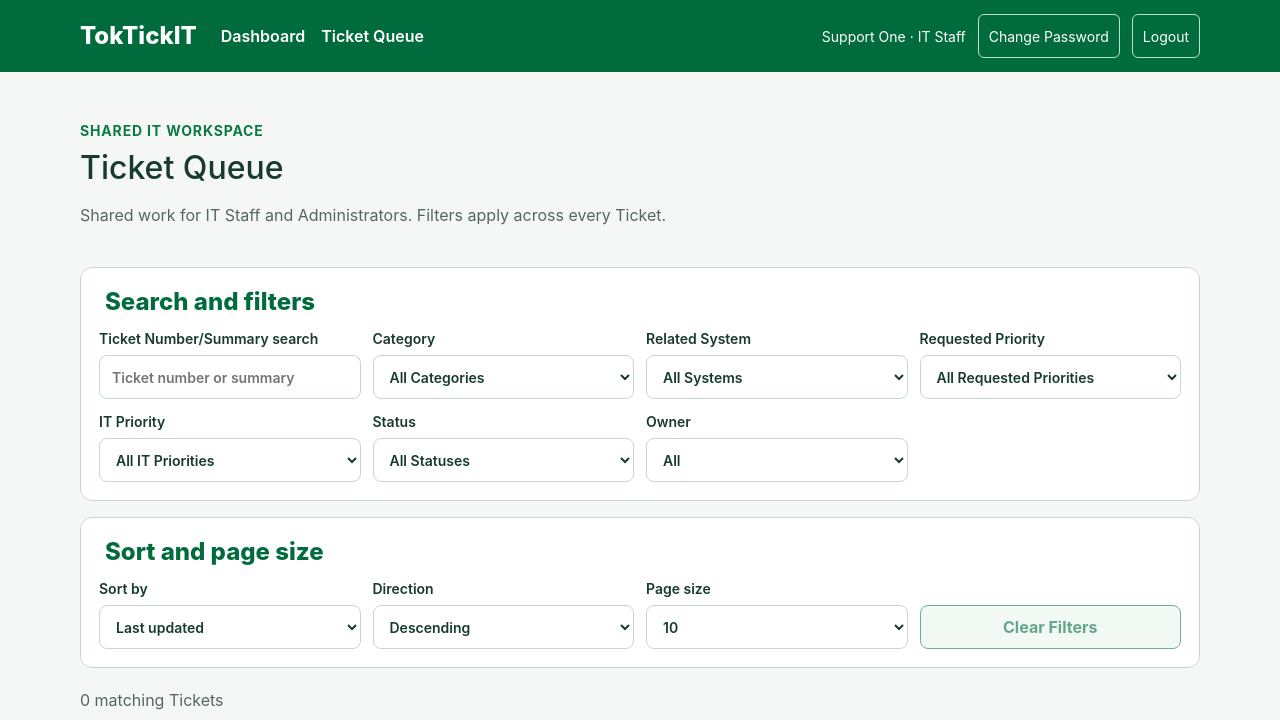
it: Lab 3 authenticated shell › keeps the authenticated shell when logout fails and offers Retry
The image size is (1280, 720).
Expected: the heading "Ticket Queue" is shown, x1=80 y1=148 x2=284 y2=187
Step 1. Click the button "Logout" → (1166, 36), box x1=1132 y1=14 x2=1200 y2=58
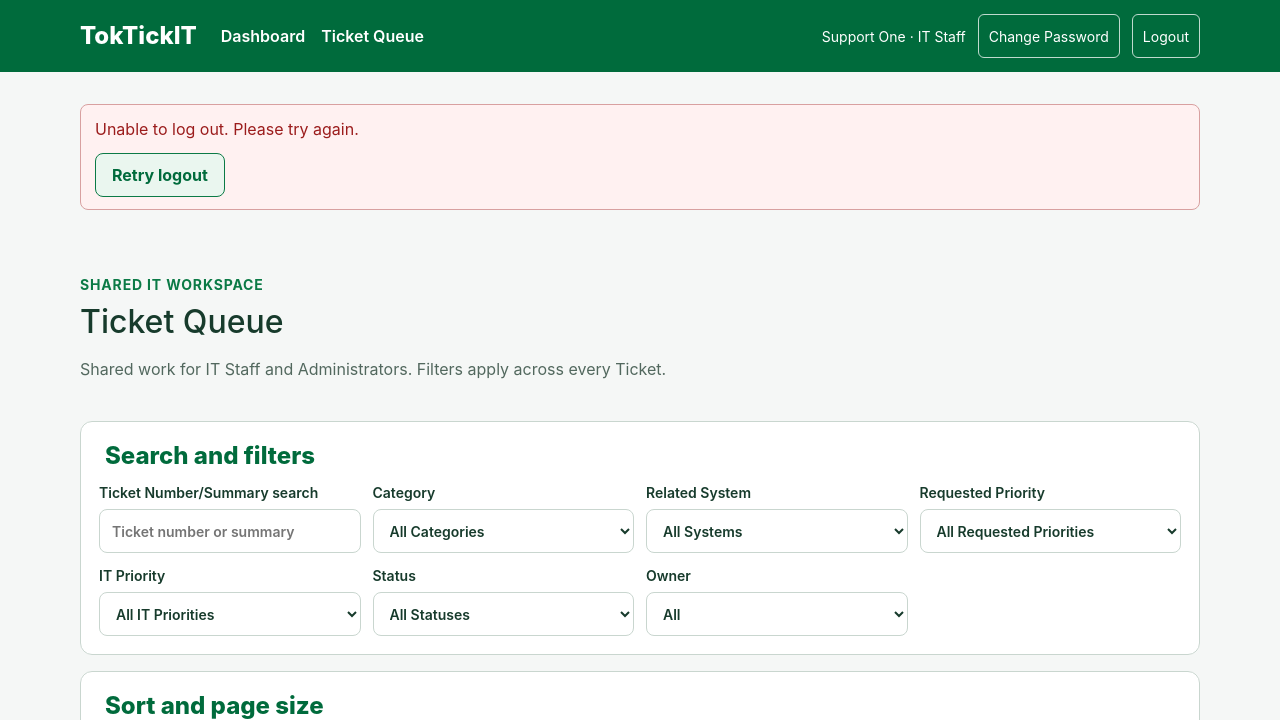
Expected: the heading "Ticket Queue" is shown, x1=80 y1=302 x2=284 y2=341
Now the text "Unable to log out. Please try again." is shown, box x1=95 y1=119 x2=359 y2=139
Now the button "Retry logout" is shown, box x1=95 y1=153 x2=225 y2=197
